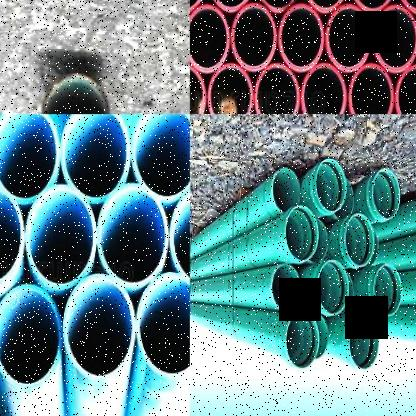pipe: (64, 274, 135, 381), (98, 183, 169, 290), (26, 185, 97, 289), (0, 285, 62, 389), (60, 114, 130, 203), (137, 271, 190, 379), (0, 114, 60, 205), (131, 114, 190, 201), (326, 4, 372, 73), (278, 4, 324, 73), (232, 3, 278, 72), (372, 4, 416, 74), (41, 72, 110, 114), (190, 5, 230, 74), (0, 182, 25, 288), (207, 62, 254, 114), (300, 63, 346, 114), (254, 63, 300, 114), (348, 63, 394, 114), (169, 187, 190, 289), (286, 310, 320, 369), (286, 205, 320, 261), (318, 260, 350, 314), (349, 315, 380, 369), (344, 213, 374, 267), (316, 158, 346, 212), (374, 263, 401, 316), (372, 169, 400, 219), (273, 264, 300, 310), (273, 168, 300, 213), (394, 65, 416, 114), (190, 64, 206, 114), (348, 0, 394, 14), (208, 0, 255, 13), (302, 0, 349, 13), (255, 0, 301, 12), (397, 0, 416, 14)
